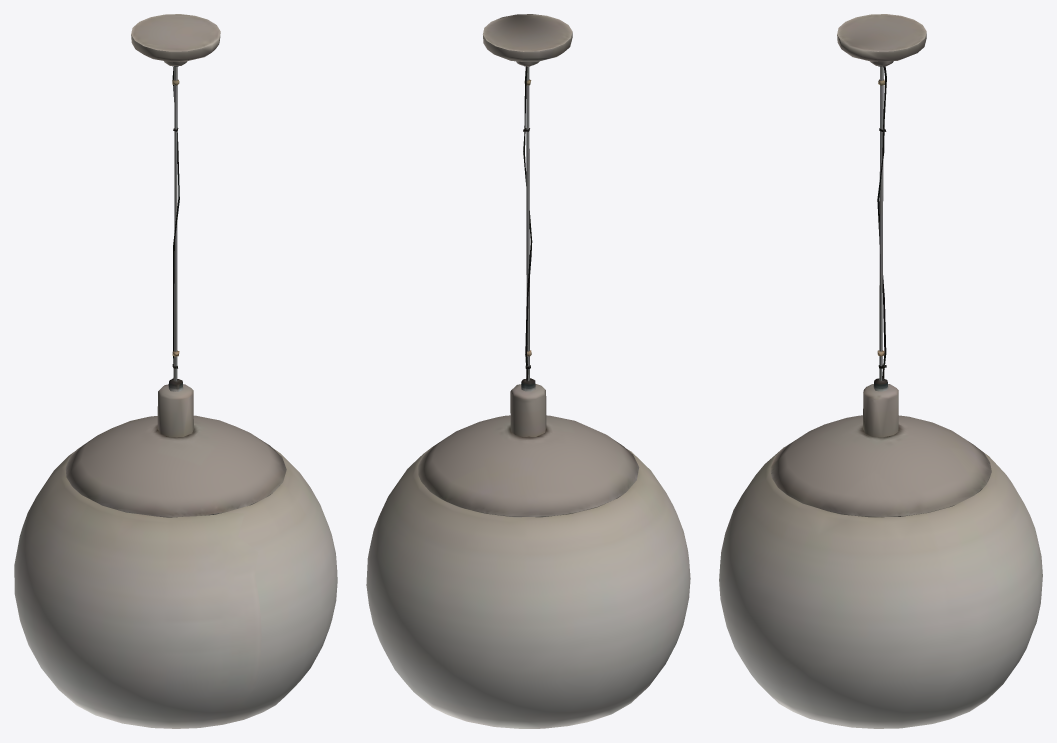
The model's file is pendant-globe-balanced-768c25ca72.glb.
3 renders of one model, left to right at view 1: azimuth 30°, elevation 25°; view 2: azimuth 150°, elevation 25°; view 3: azimuth 270°, elevation 25°, orthographic.
Visible parts, largest first — view 1: modern_ceiling_lamp_01; view 2: modern_ceiling_lamp_01; view 3: modern_ceiling_lamp_01.
Part boxes in pixels (x1,y1,x2,y2): modern_ceiling_lamp_01: [14, 14, 337, 728]; modern_ceiling_lamp_01: [366, 14, 690, 728]; modern_ceiling_lamp_01: [719, 14, 1042, 728].
Bounding box in the file's own units: 0.4316 × 0.9516 × 0.4316.
Materials: 3 (3 with a texture image).
